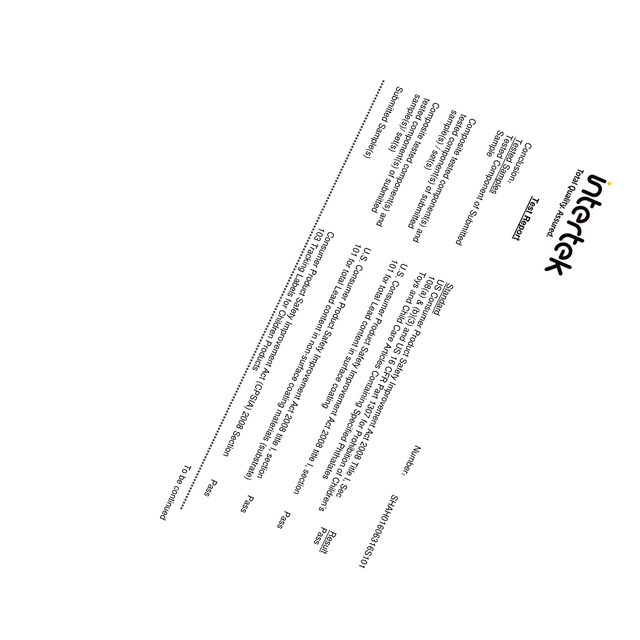intertek: (542, 168, 612, 280)
